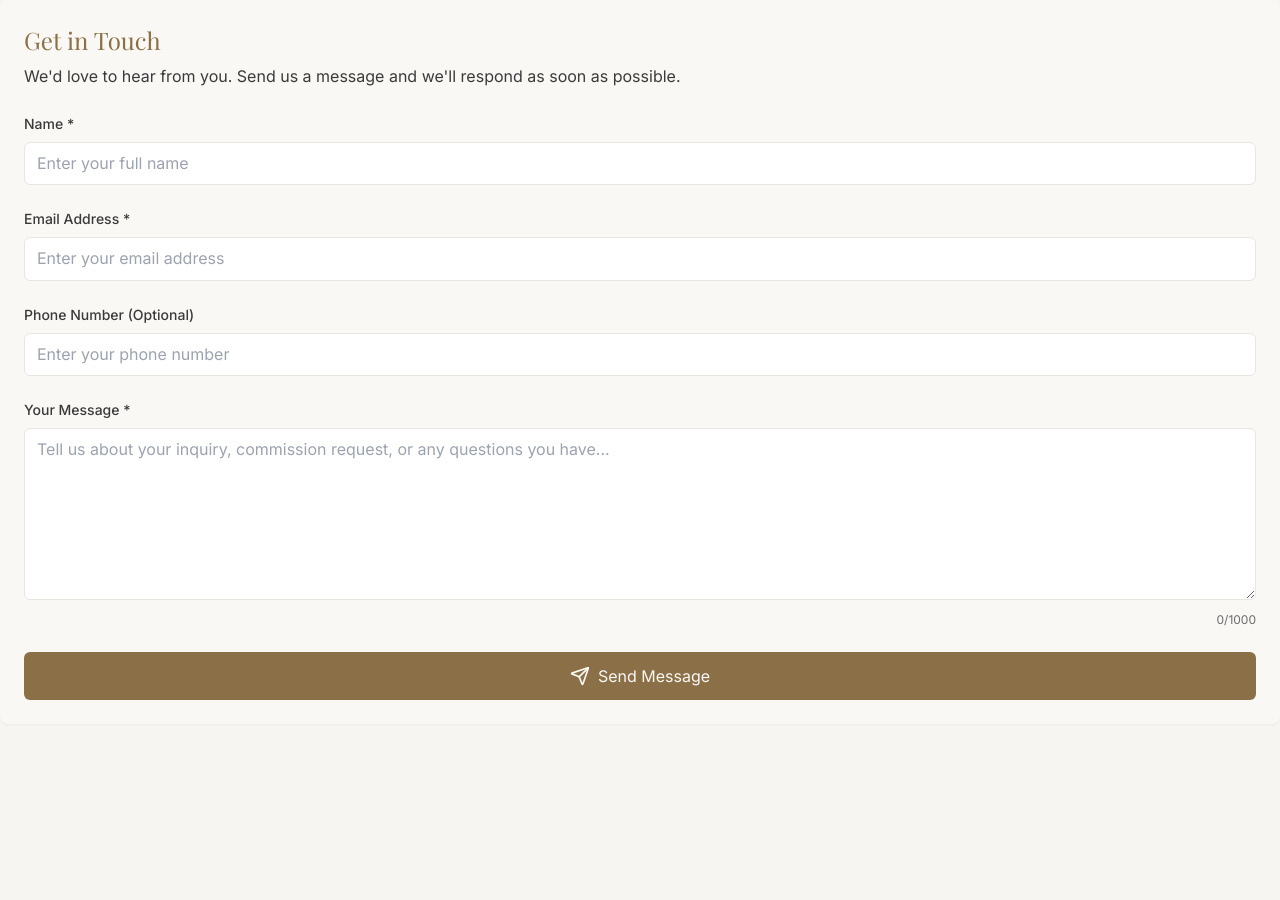
Test: ContactFormSubmit › Required Field Validation › should validate message minimum length
The image size is (1280, 900).
Type "Short" into the text box labelled "Your Message *" at point(640, 514), box [24,428,1256,600]
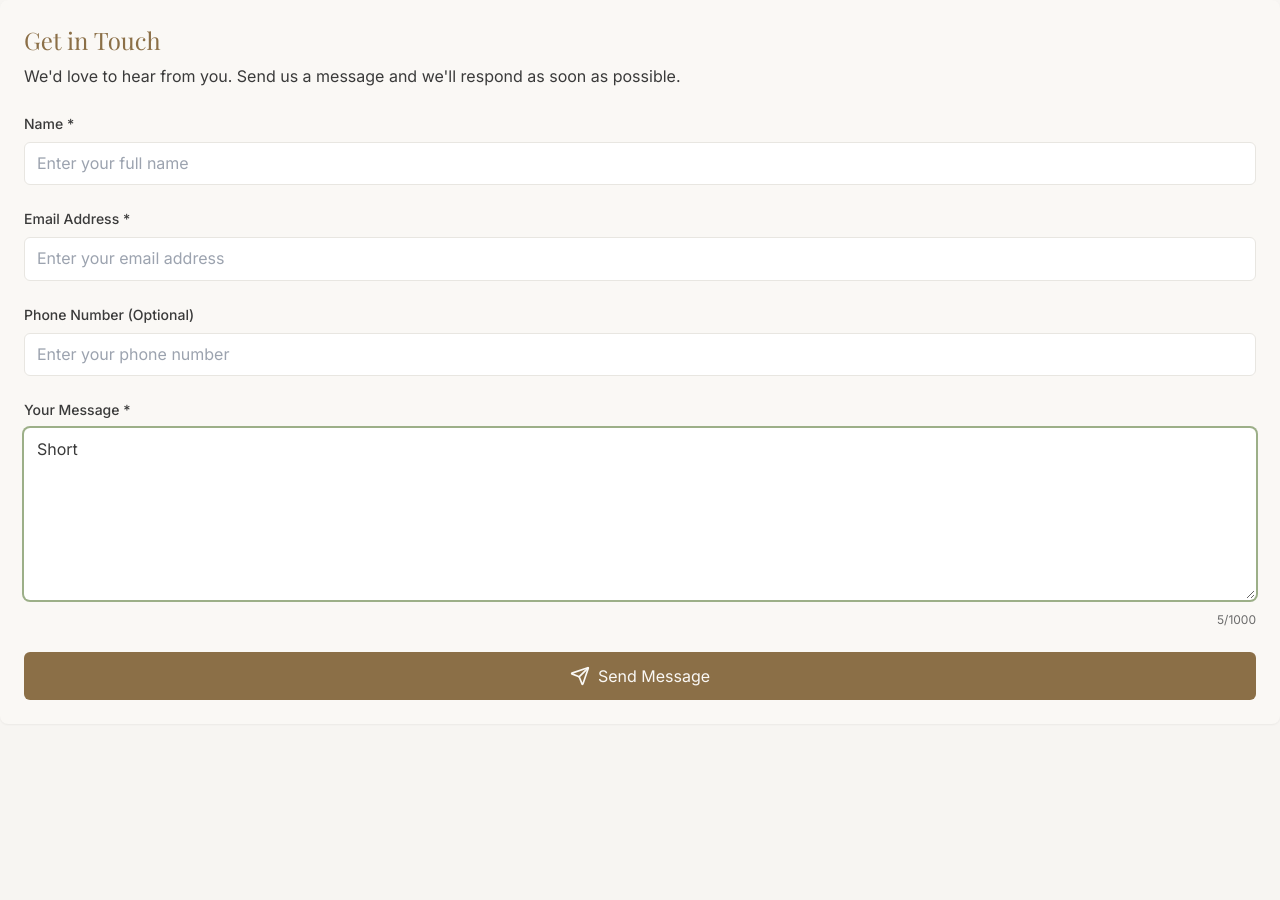
Submit the form named "send message"
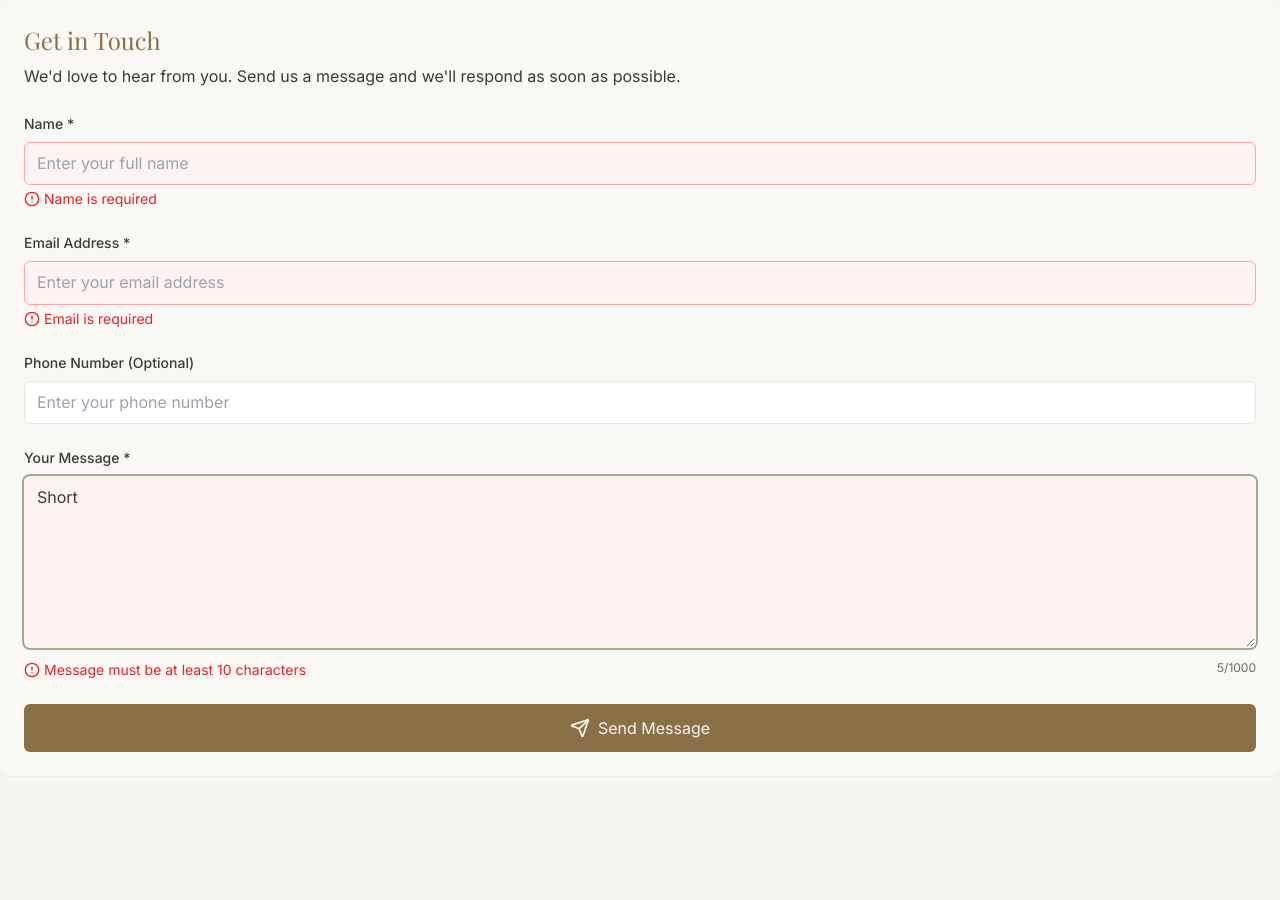
Check: the text "Message must be at least 10 characters" is shown, box [44,660,306,680]
